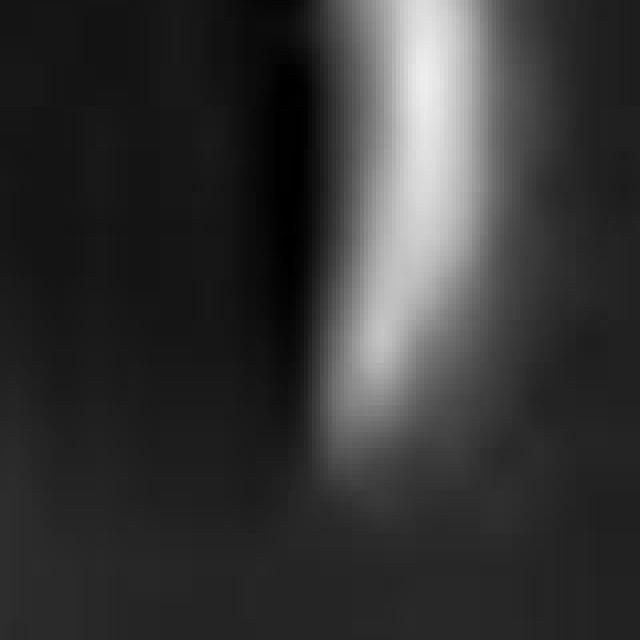person: (261, 1, 541, 492)
